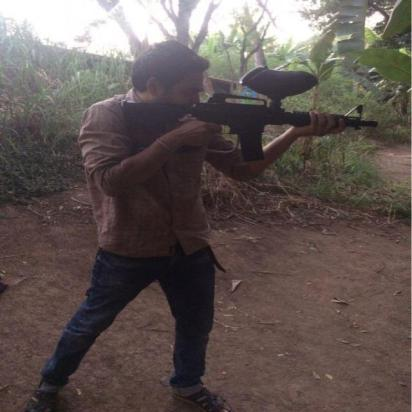Gun: (119, 64, 379, 165)
